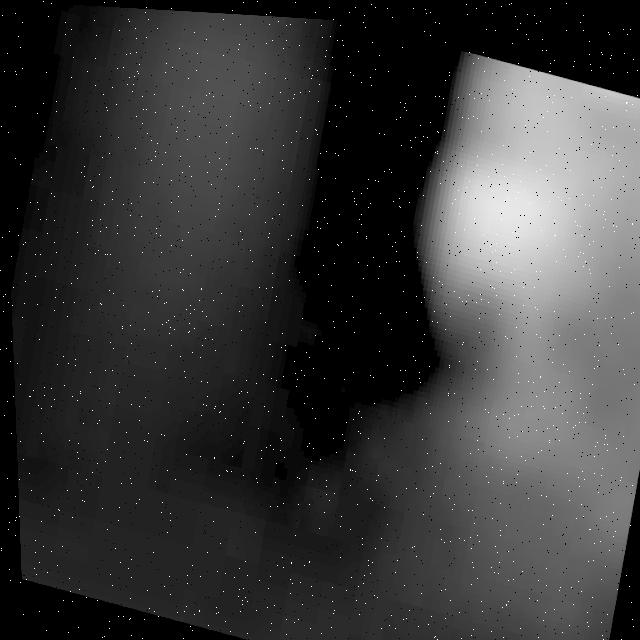person: (361, 41, 640, 577)
